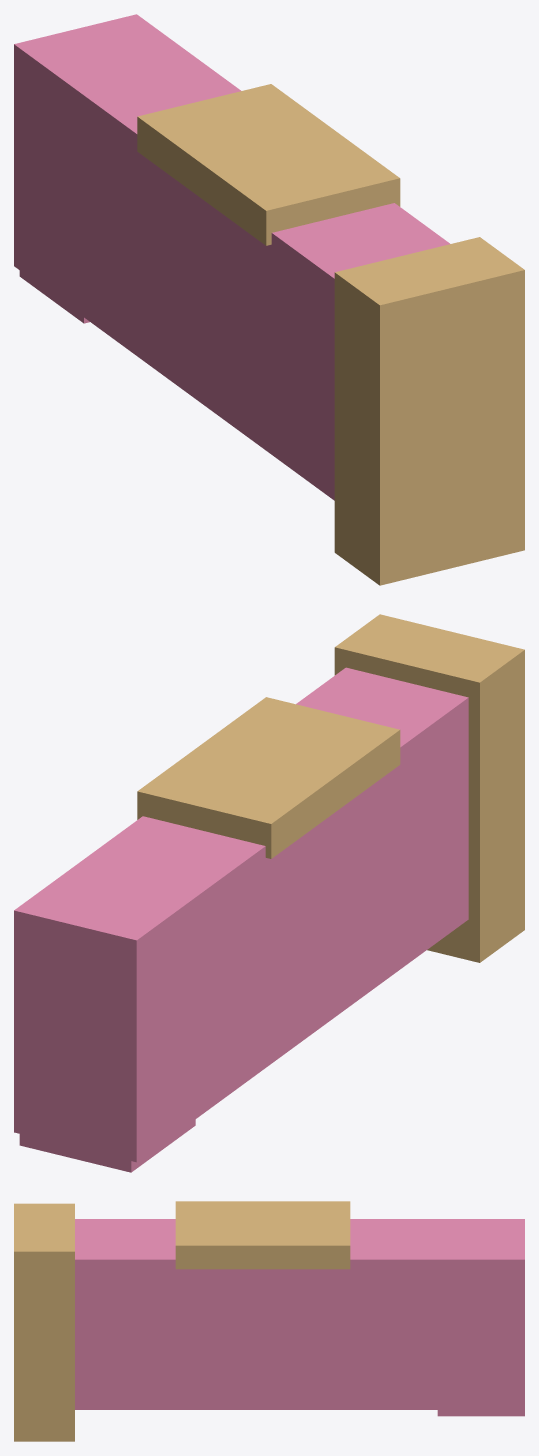
File: HeavyStock.obj
3 views of the same model, one above another, from view 1: azimuth 30°, elevation 25°; view 2: azimuth 150°, elevation 25°; view 3: azimuth 270°, elevation 25° (orthographic). The views are drawn at different scales.
Parts seen in each view (by area): view 1: HeavyStock_Body, HeavyStock_Detail; view 2: HeavyStock_Body, HeavyStock_Detail; view 3: HeavyStock_Body, HeavyStock_Detail.
Part boxes in pixels (left/top/right/bottom): HeavyStock_Body: left=14, top=14, right=449, bottom=500; HeavyStock_Detail: left=137, top=84, right=524, bottom=585; HeavyStock_Body: left=14, top=667, right=468, bottom=1172; HeavyStock_Detail: left=137, top=614, right=524, bottom=962; HeavyStock_Body: left=75, top=1219, right=524, bottom=1416; HeavyStock_Detail: left=14, top=1201, right=350, bottom=1441.
Size of the model in its own units: 0.13 by 0.245 by 0.585.
